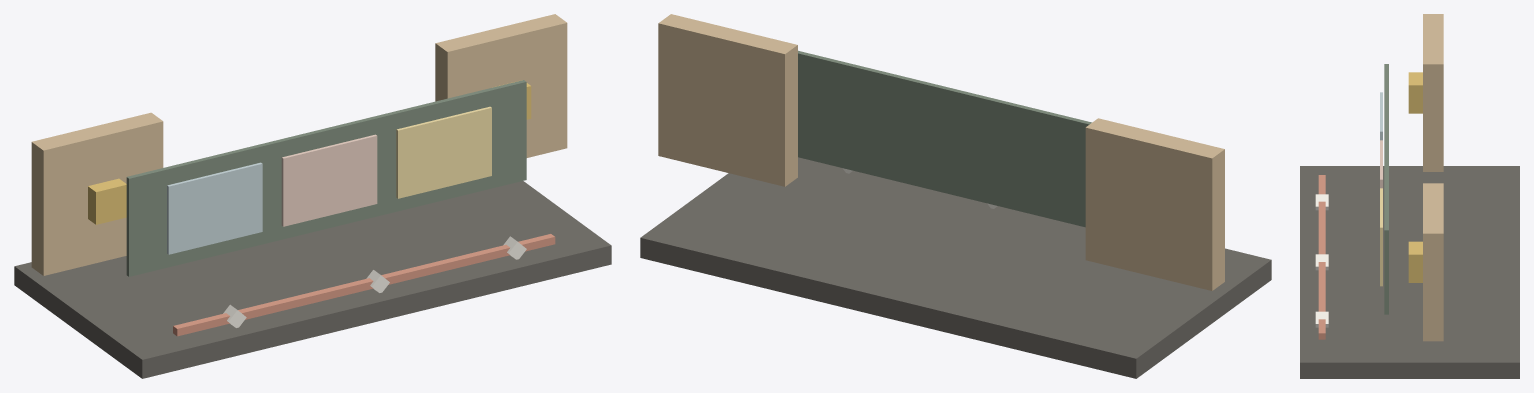
The model's file is motion.gltf.
The picture shows the model from 3 angles, left to right: view 1: azimuth 30°, elevation 25°; view 2: azimuth 150°, elevation 25°; view 3: azimuth 270°, elevation 25°; orthographic projection. The views are drawn at different scales.
Visible parts, largest first — view 1: FilmBase, FilmStrip, ReelLeft, ReelRight, hotspot_frame_b, hotspot_frame_c, hotspot_frame_a, Timeline, ReelHubLeft; view 2: FilmBase, FilmStrip, ReelLeft, ReelRight; view 3: FilmBase, ReelRight, ReelLeft, FilmStrip, Timeline, ReelHubLeft, ReelHubRight, hotspot_frame_c.
Part boxes in pixels (x1,y1,x2,y2): FilmBase: [14, 181, 611, 378]; FilmStrip: [126, 80, 526, 276]; ReelLeft: [31, 112, 163, 275]; ReelRight: [435, 14, 567, 157]; hotspot_frame_b: [281, 134, 377, 226]; hotspot_frame_c: [396, 106, 491, 198]; hotspot_frame_a: [167, 162, 262, 254]; Timeline: [173, 234, 555, 336]; ReelHubLeft: [88, 178, 126, 224]; FilmBase: [640, 157, 1271, 378]; FilmStrip: [798, 50, 1091, 227]; ReelLeft: [1085, 118, 1224, 290]; ReelRight: [658, 14, 797, 186]; FilmBase: [1300, 166, 1519, 378]; ReelRight: [1423, 183, 1443, 341]; ReelLeft: [1423, 14, 1443, 171]; FilmStrip: [1384, 64, 1388, 314]; Timeline: [1318, 175, 1325, 339]; ReelHubLeft: [1408, 72, 1422, 113]; ReelHubRight: [1408, 241, 1422, 282]; hotspot_frame_c: [1380, 188, 1382, 286].
Bounding box in the file's own units: 4.02 × 1.34 × 1.7.
